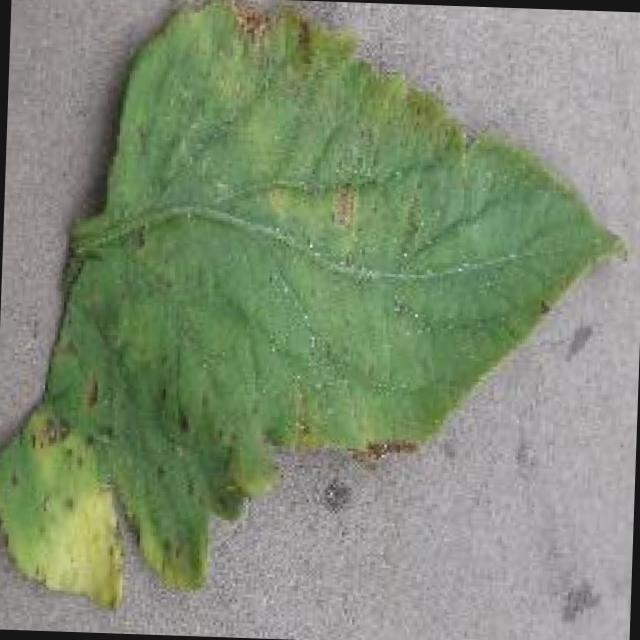bacterial spot: (0, 0, 622, 611)
